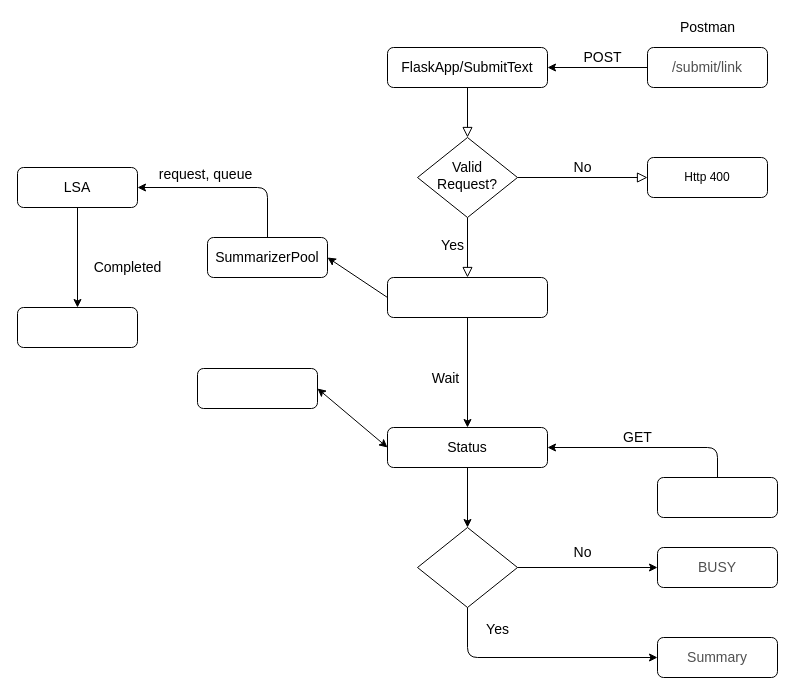
This 795x695 diagram has some shape labels left out. Each missing label, with the box of its shape:
/summary/id: (656, 476, 778, 518)
Read queue: (196, 368, 318, 408)
Ready?: (416, 526, 518, 608)
register new request: (386, 276, 548, 318)
Update queue: (16, 306, 138, 348)
